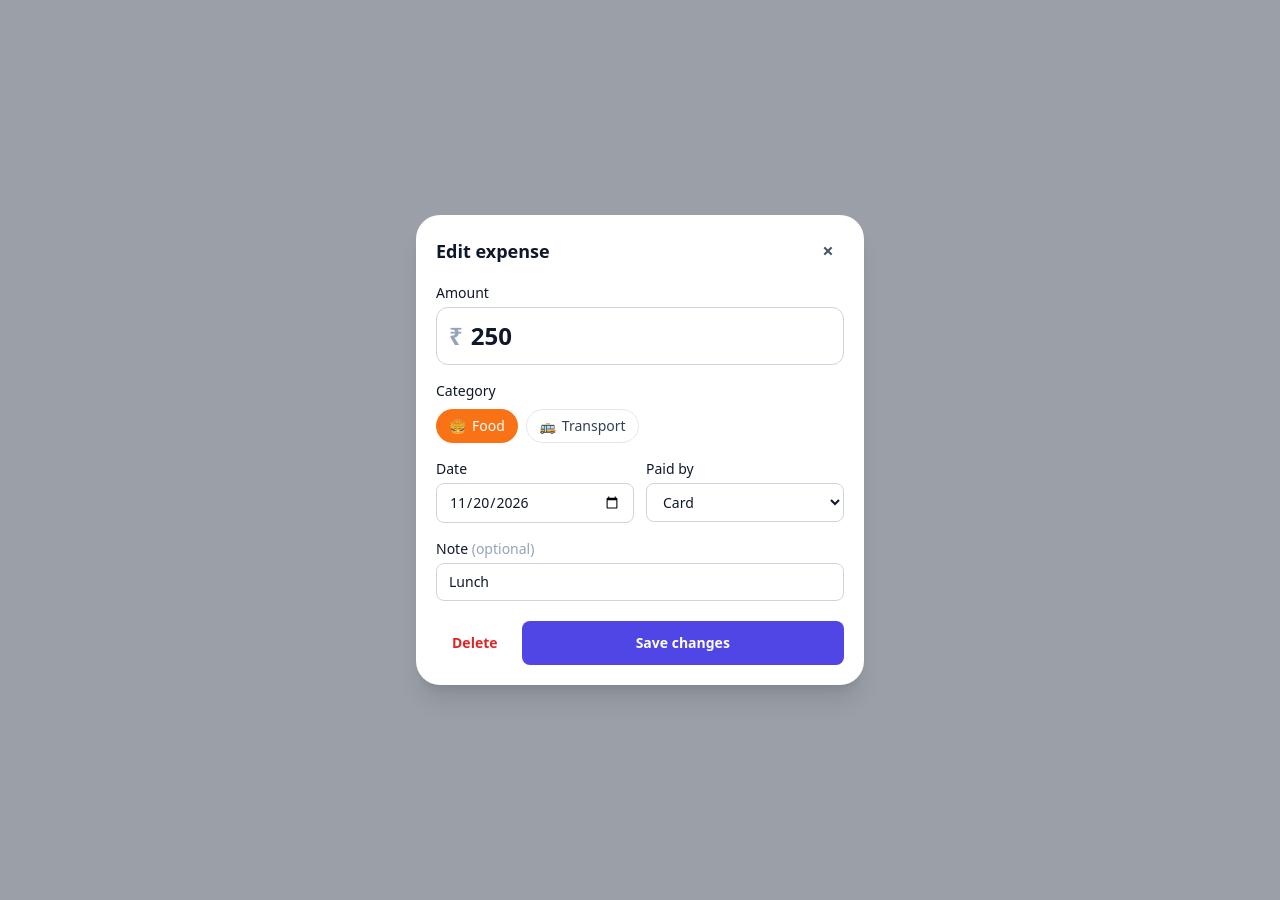
Test case: edit mode › needs two taps to delete
Later steps or results of the test are not shown.
Click the button "Delete" at (475, 643), box [436,621,514,665]
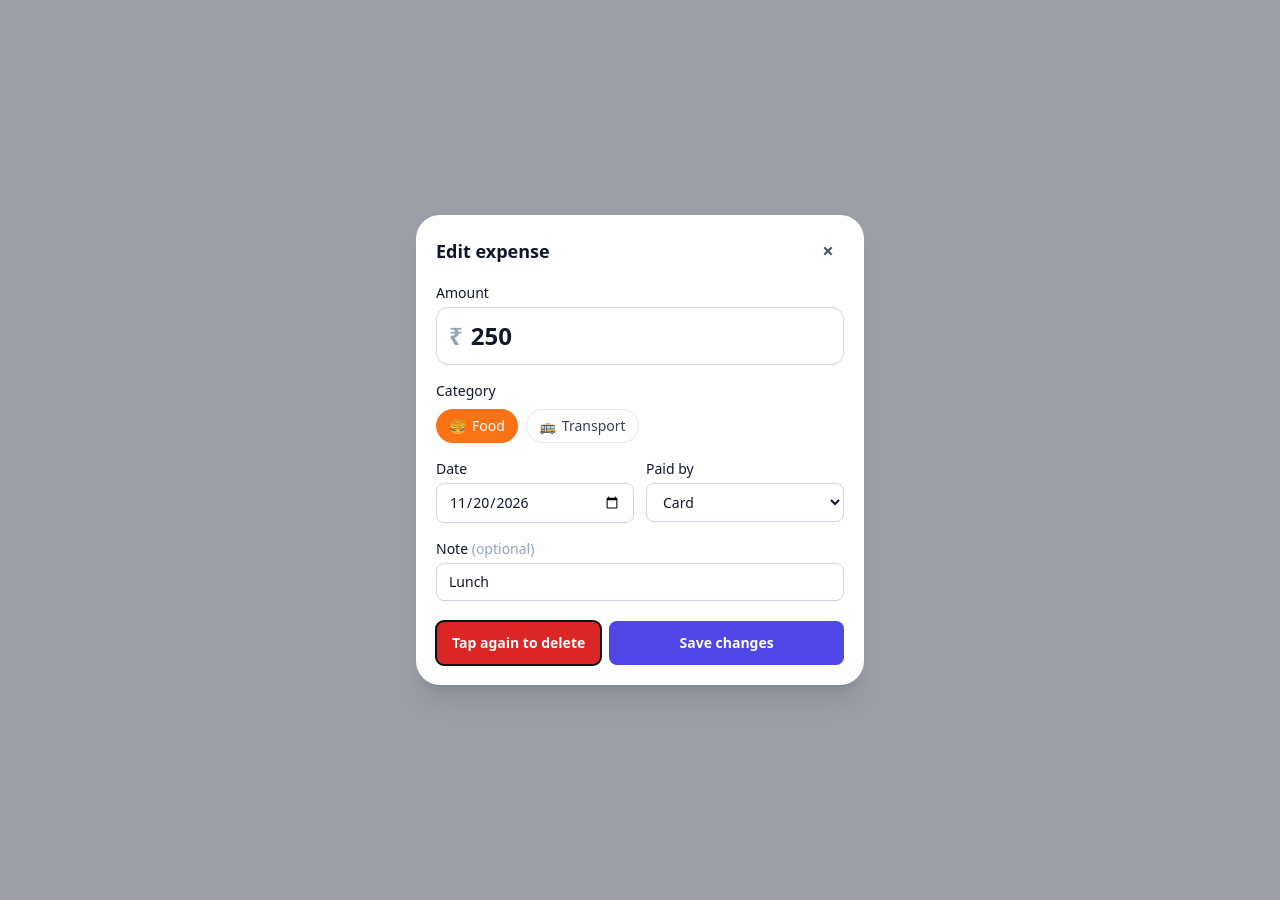
Check: the button "Tap again to delete" is shown, box [436,621,601,665]
